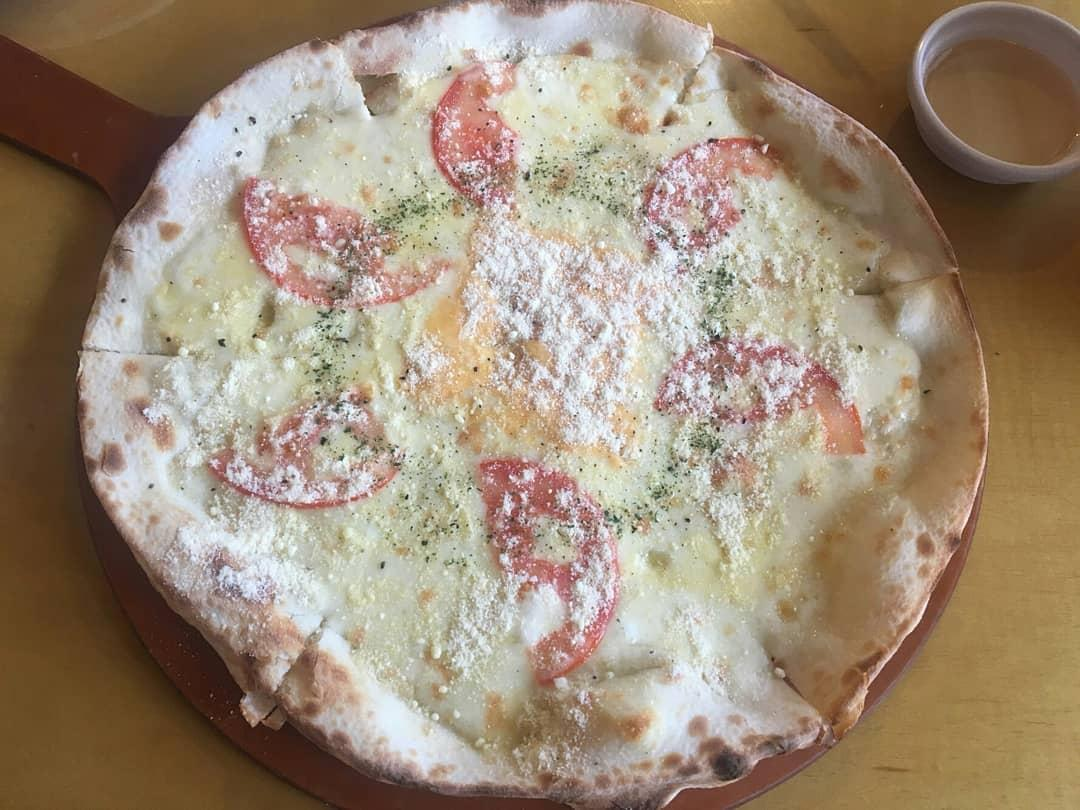Cheese: (473, 228, 620, 414)
Pizza: (75, 0, 988, 810)
Tomatoes: (470, 450, 623, 695), (652, 332, 873, 463), (230, 178, 431, 304), (202, 389, 409, 507), (636, 136, 782, 256), (426, 55, 522, 198)
